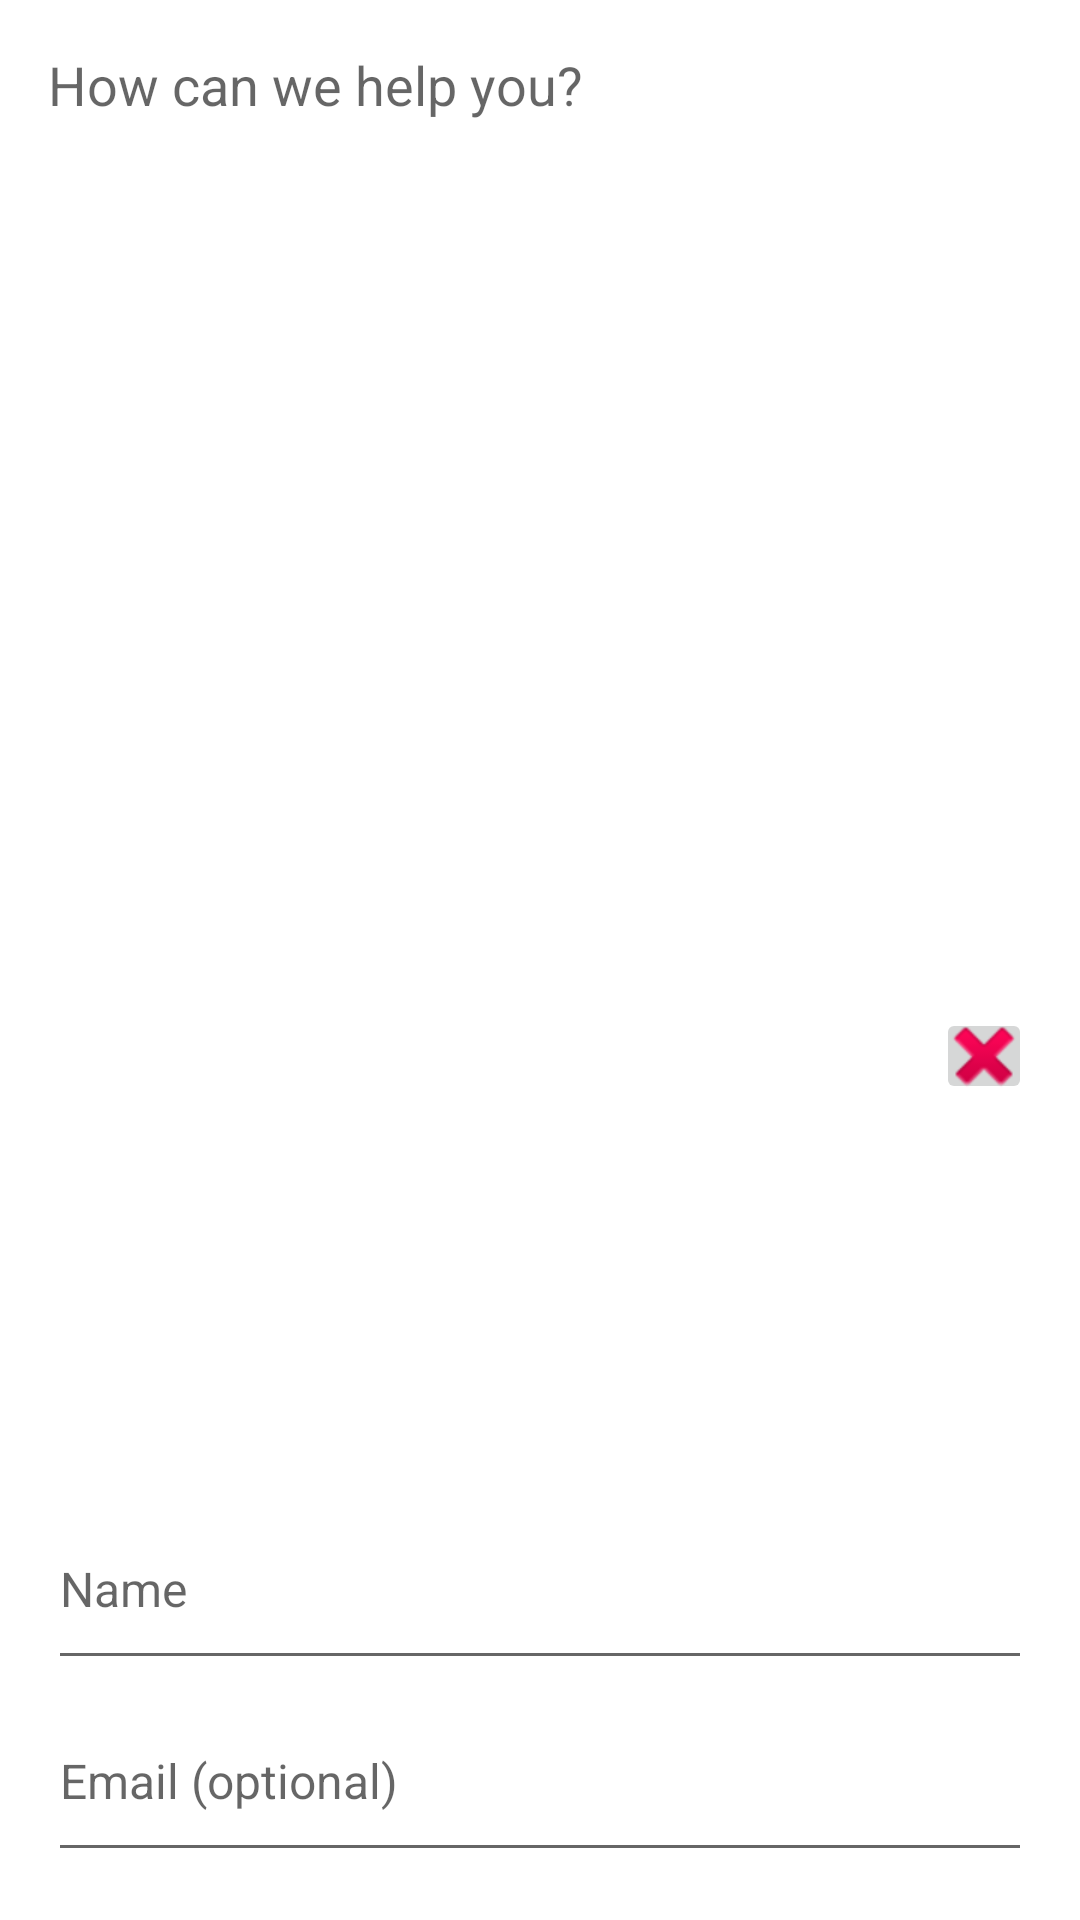

Named icons in this screenshot (1080px x 1920px) and their bounding boxes, (x1, y1, x2, y2):
delete: (948, 1026, 1020, 1086)
